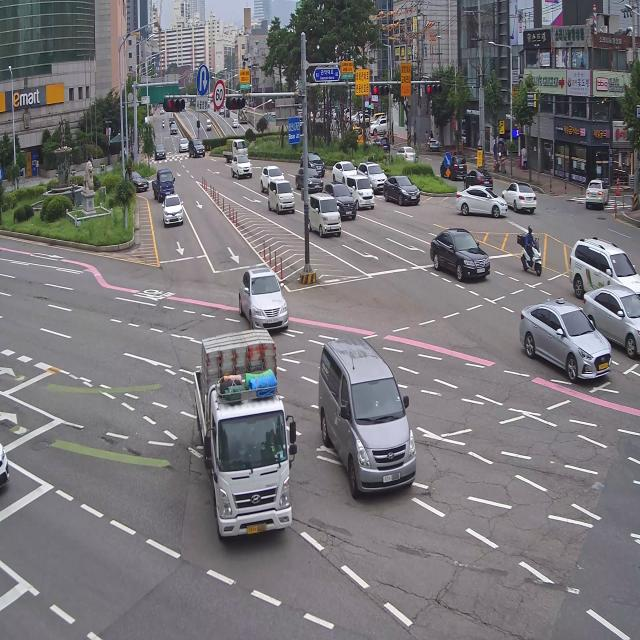Car: (308, 318, 434, 534), (516, 289, 610, 396), (427, 224, 493, 288), (234, 262, 289, 332), (0, 400, 23, 502), (455, 182, 508, 218), (306, 191, 343, 242), (383, 170, 420, 207), (266, 175, 298, 216), (344, 172, 375, 212), (502, 178, 536, 214), (326, 181, 357, 220), (580, 174, 610, 213), (357, 158, 387, 197), (258, 162, 286, 192), (463, 166, 494, 193), (160, 196, 186, 228), (438, 152, 466, 181), (229, 155, 255, 182), (295, 165, 321, 192), (329, 159, 357, 184), (300, 148, 326, 174), (395, 142, 418, 166), (371, 135, 392, 156), (369, 118, 390, 137), (350, 125, 367, 148), (188, 137, 206, 157), (176, 136, 189, 155), (370, 110, 386, 124), (154, 143, 167, 160), (356, 113, 370, 127), (204, 116, 212, 133), (230, 116, 240, 128), (170, 124, 178, 135), (269, 108, 277, 119), (218, 103, 224, 116), (224, 107, 230, 118), (159, 106, 165, 115)
Motorcycle: (512, 216, 548, 280), (161, 118, 166, 130)
Truck: (171, 316, 297, 550), (149, 169, 175, 202), (219, 136, 251, 162), (238, 104, 250, 127), (169, 114, 175, 125)
